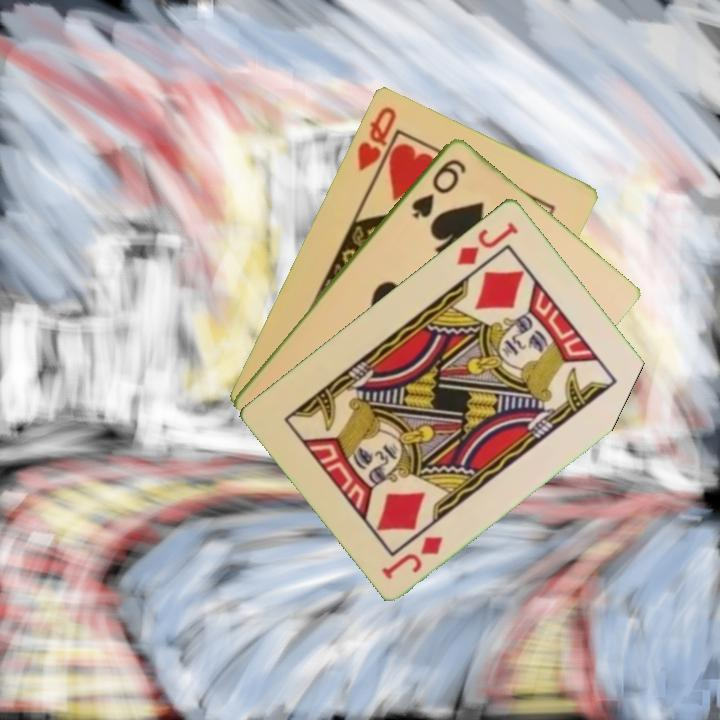6s: (407, 154, 470, 221)
Jd: (453, 217, 521, 268), (378, 531, 446, 582)
Qh: (353, 102, 399, 174)
